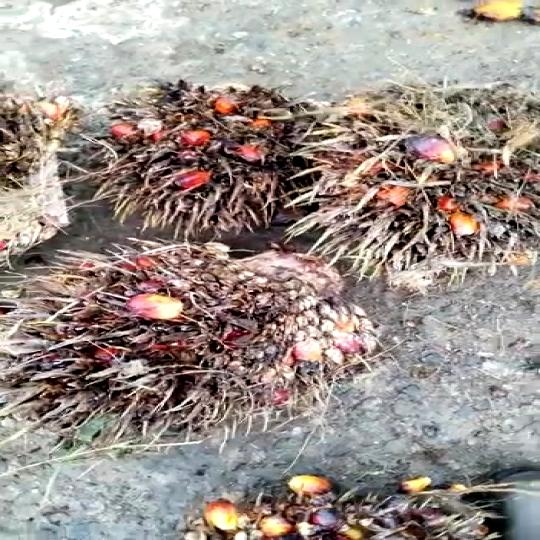terlalu masak: (0, 240, 376, 458), (280, 78, 540, 294), (71, 85, 334, 246)
